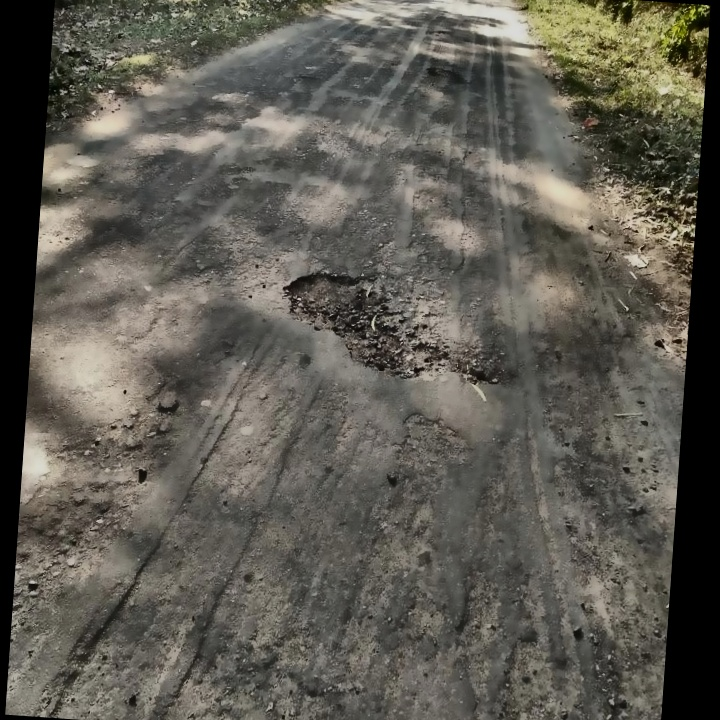pothole: (273, 264, 451, 382), (423, 61, 461, 82)
